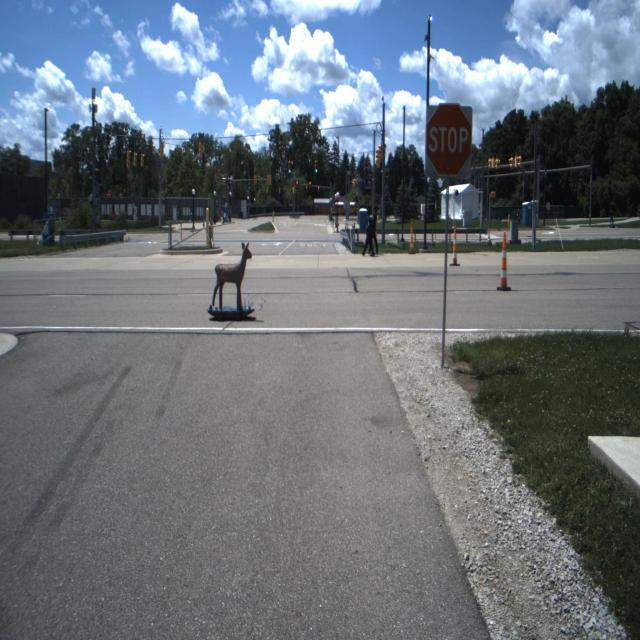Deer: (209, 238, 253, 308)
